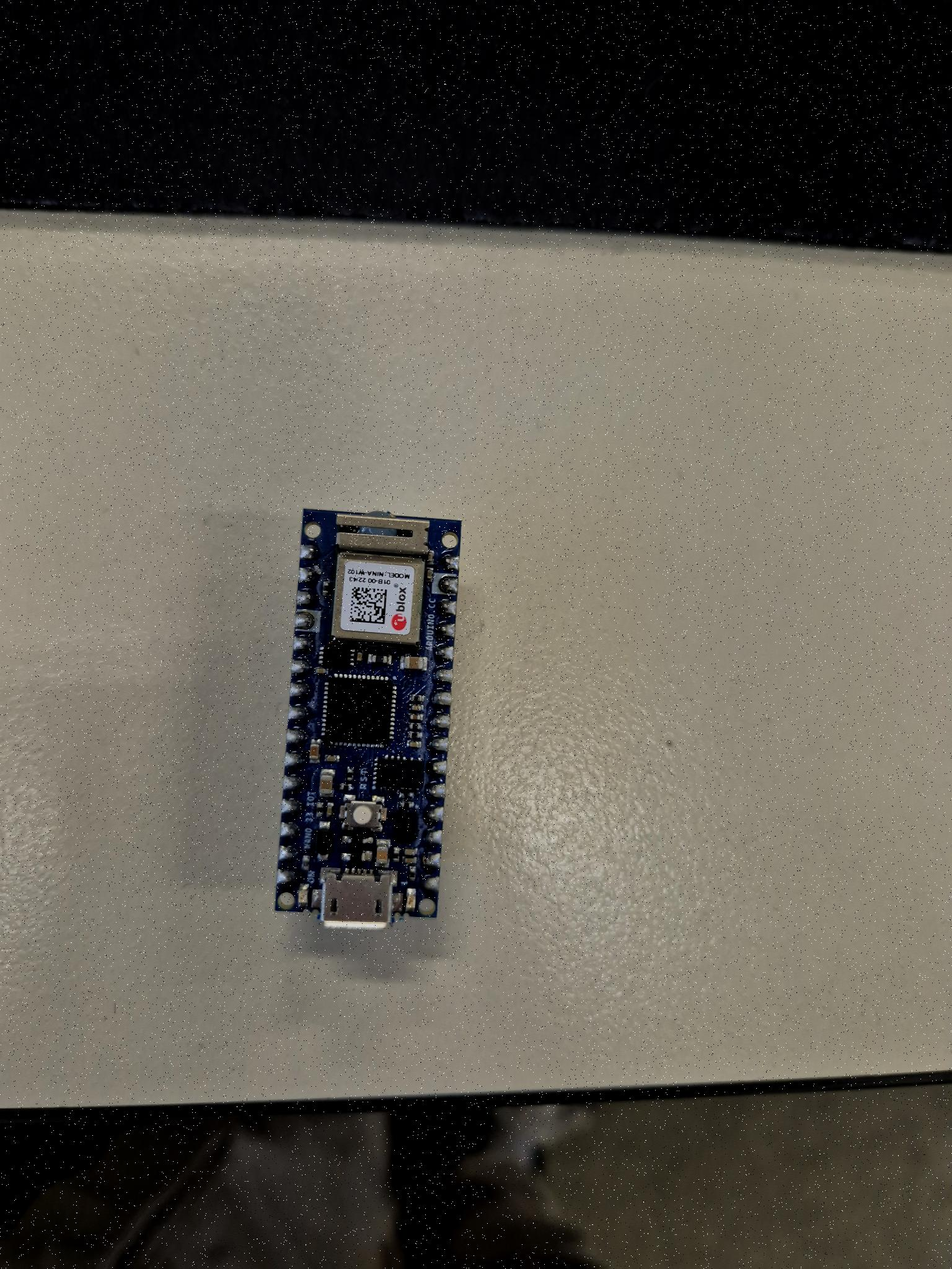arduino-nano-iot-33: (282, 504, 462, 922)
